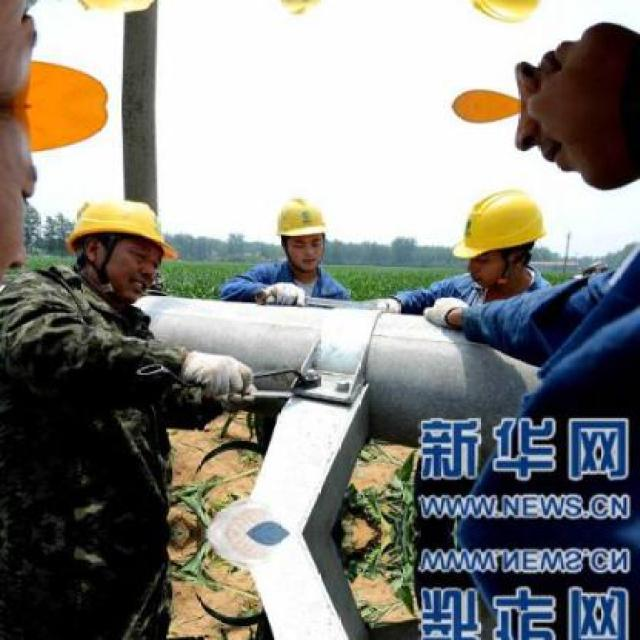helmet: (60, 182, 183, 304), (448, 171, 554, 299), (274, 185, 335, 276), (448, 0, 555, 42), (60, 0, 185, 31), (274, 0, 337, 28)
